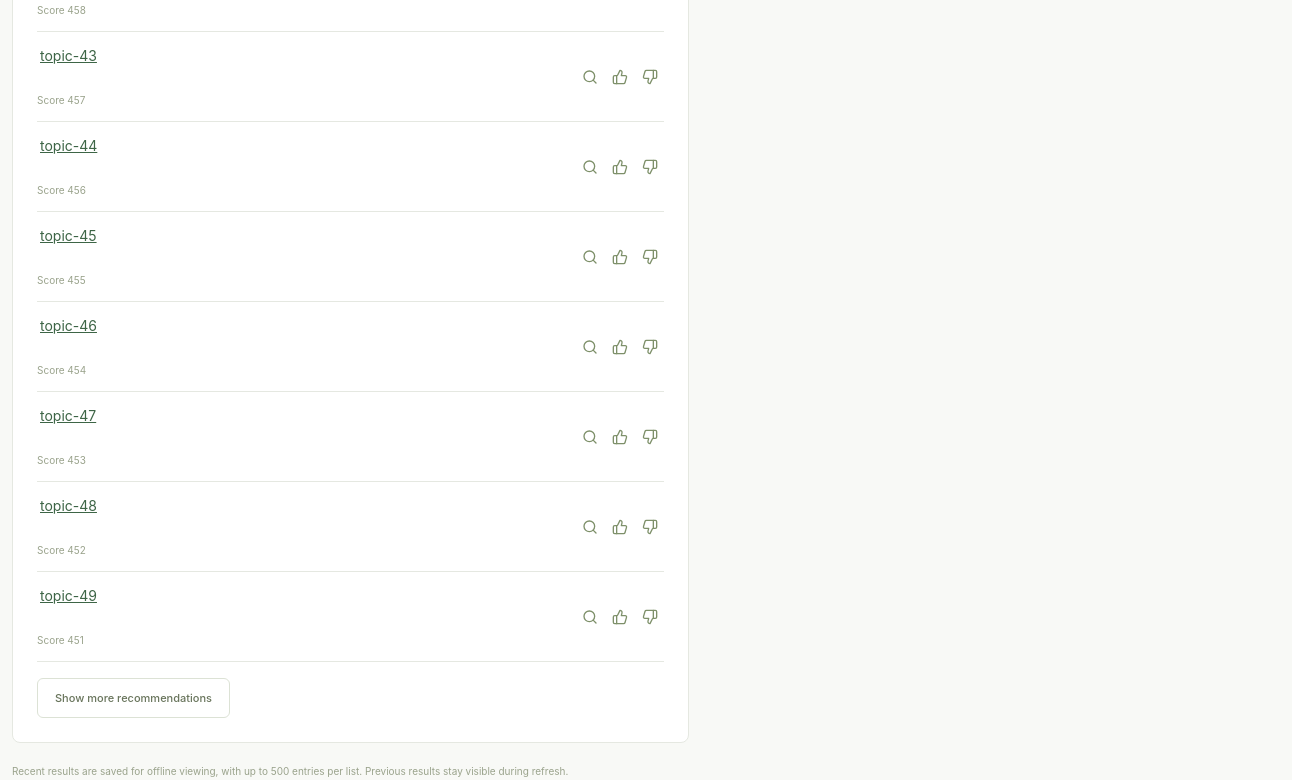
Test: limits rendered discovery rows and filters across entries that are not rendered yet
The width and height of the screenshot is (1292, 780).
(page scrolled)
Click the button "Show more recommendations": (134, 698) x1=37 y1=678 x2=230 y2=718
(page scrolled)
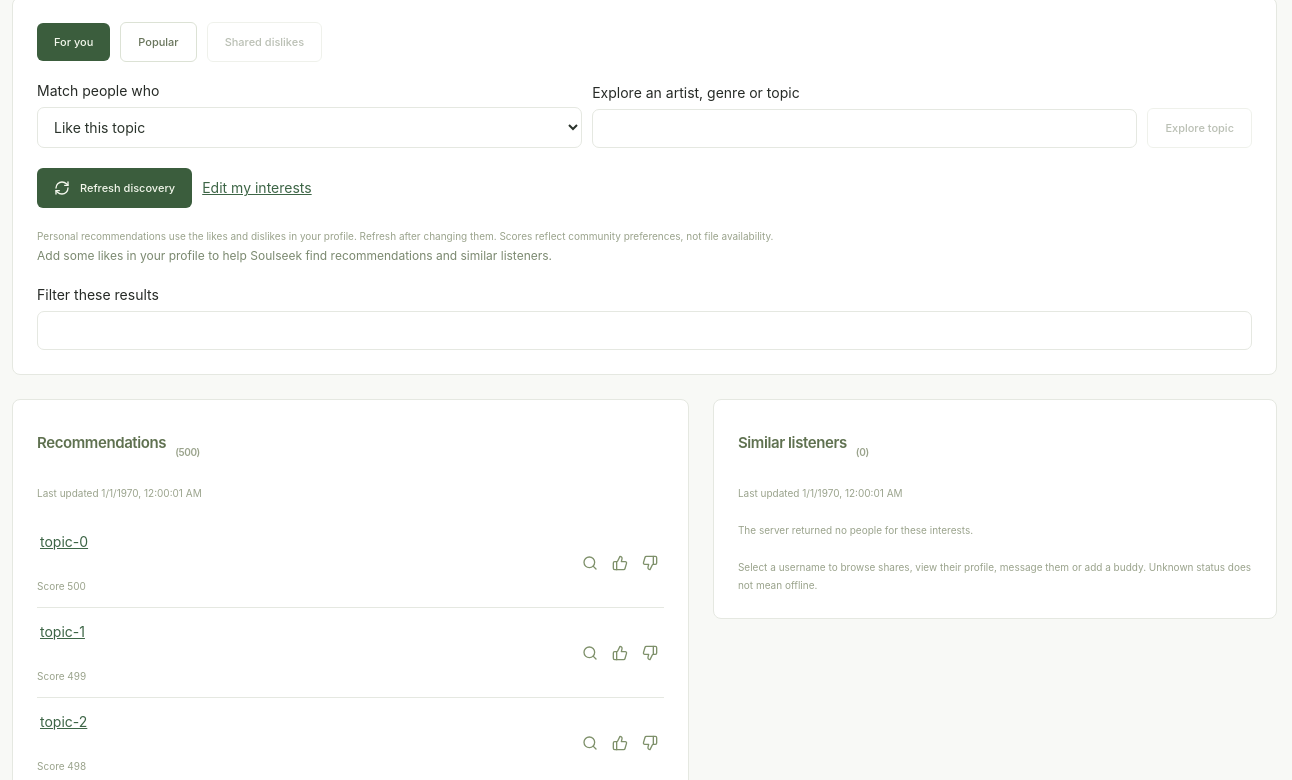
Check: the number of list items with class "discovery-item" is 100
In the search field named "Filter discovery results": (644, 331) x1=37 y1=312 x2=1252 y2=350, type "topic-499"
(page scrolled)
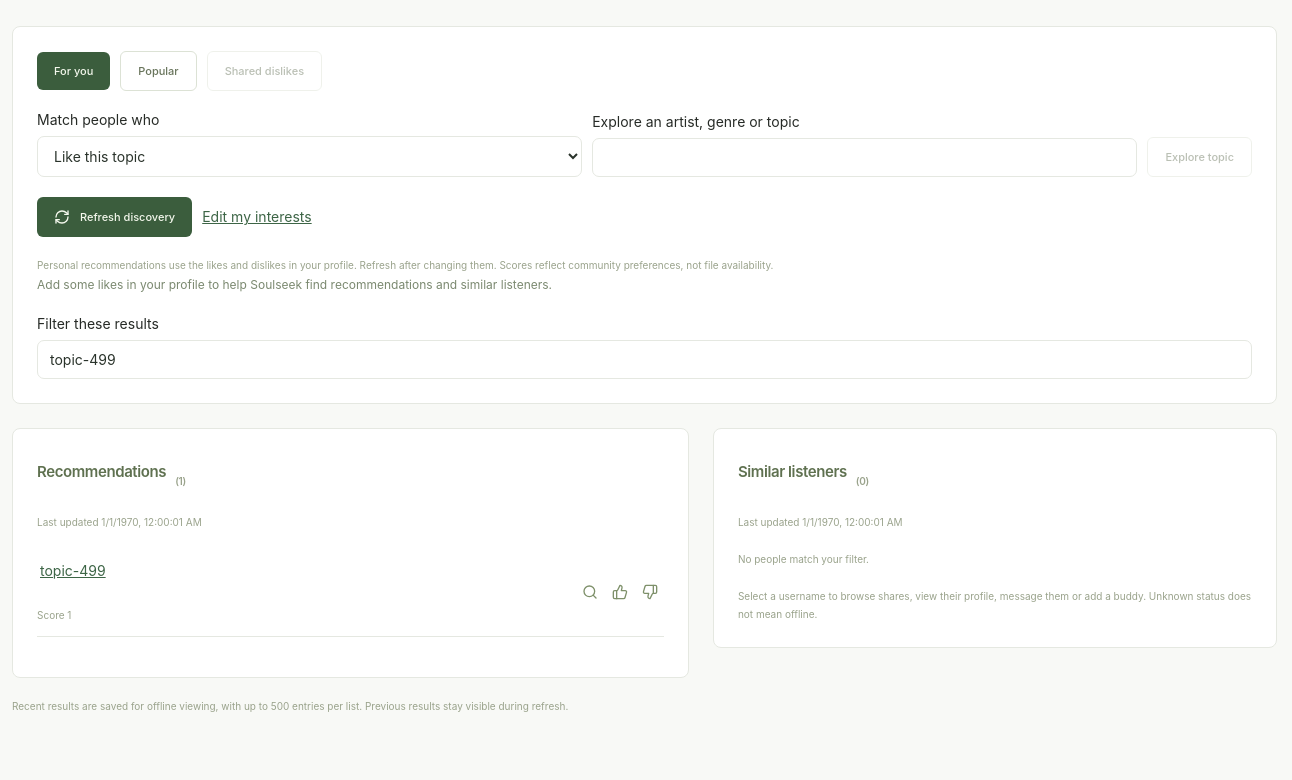
Check: the number of list items with class "discovery-item" is 1, box x1=37 y1=548 x2=664 y2=638
Check: the button with aria-label "Explore topic-499" is shown, box x1=37 y1=560 x2=109 y2=582
